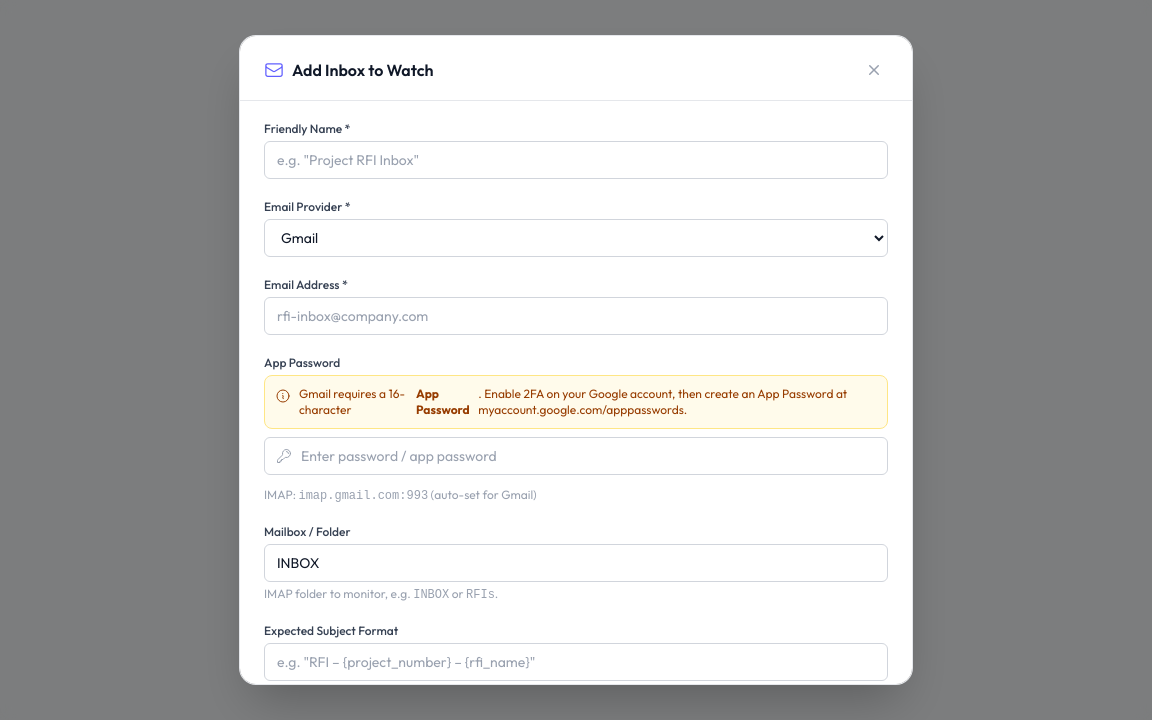
Scenario: EmailConfigModal — create mode › shows IMAP host/port fields only for 'Other' provider
Expected: the field with placeholder "mail.example.com" is not shown
Step 1. Select "Other (custom IMAP)" in the dropdown showing "Gmail" → (576,238), box [264, 219, 888, 257]
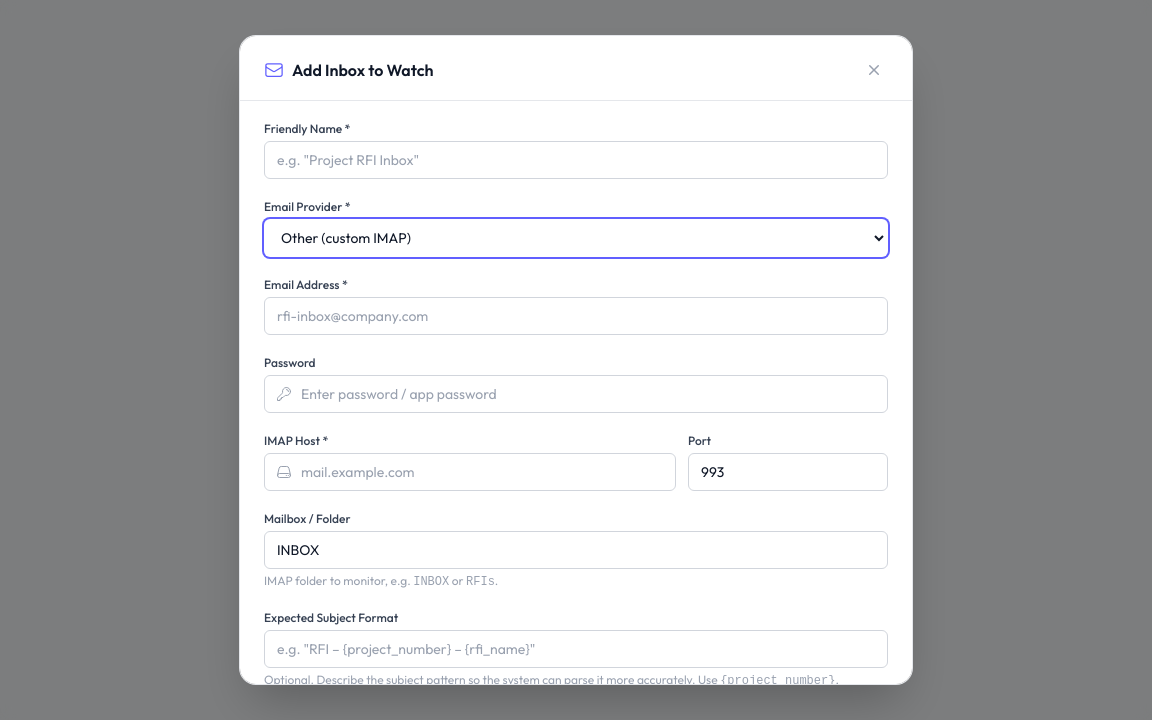
Expected: the field with placeholder "mail.example.com" is shown, [264, 453, 676, 491]
